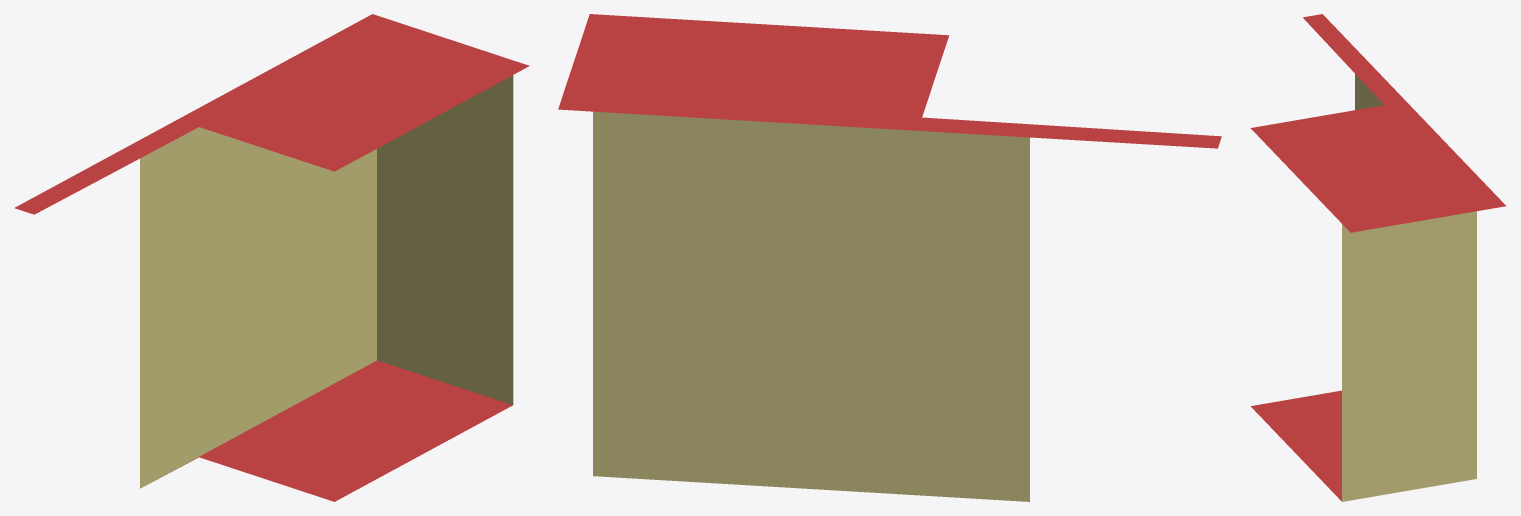
3 renders of one model, left to right at view 1: azimuth 30°, elevation 25°; view 2: azimuth 150°, elevation 25°; view 3: azimuth 270°, elevation 25°, orthographic. The views are drawn at different scales.
Size of the model in its own units: 11.35 by 5.62 by 6.73.
